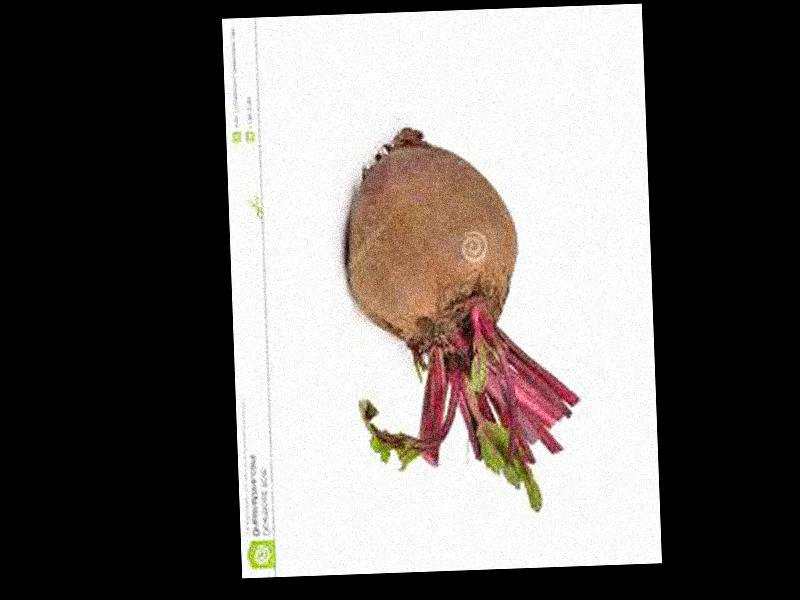Beet: (344, 121, 581, 515)
